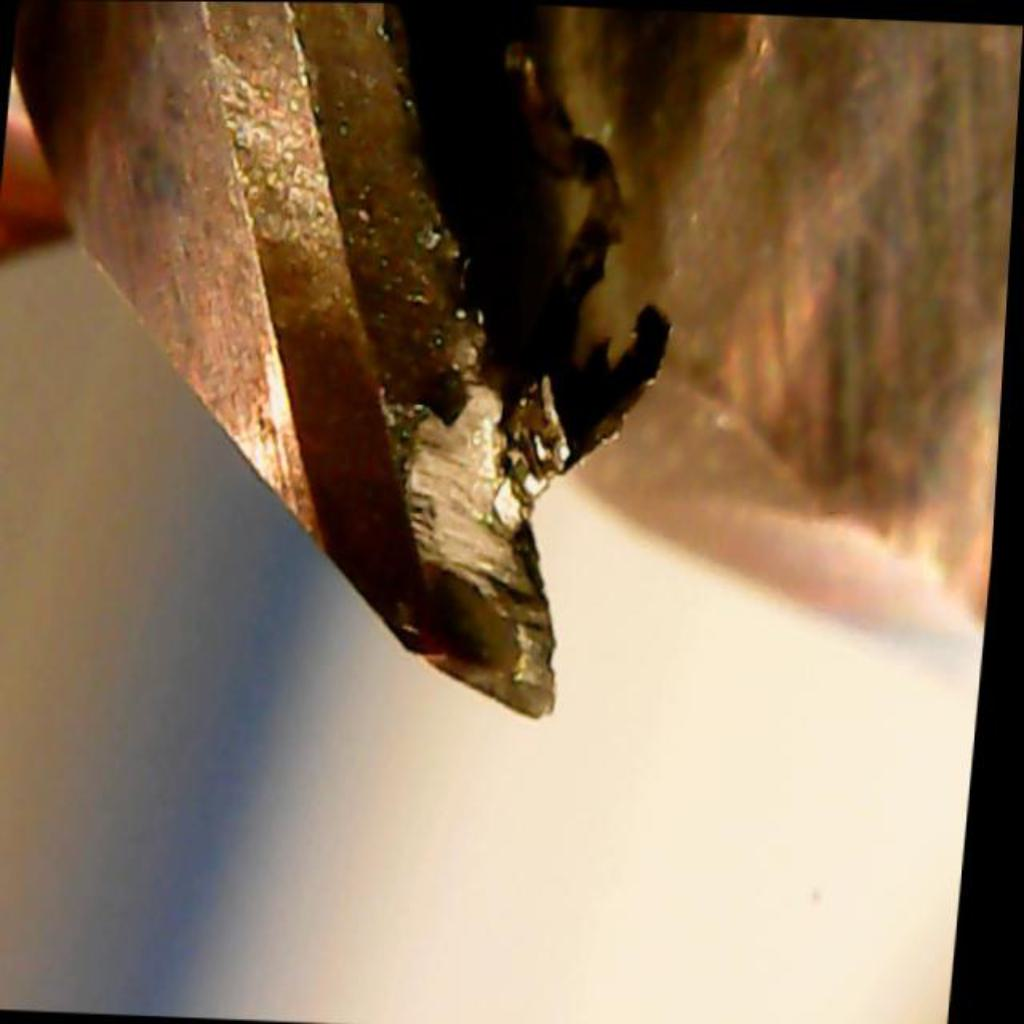Tool-wear-class-3: (249, 296, 687, 742)
